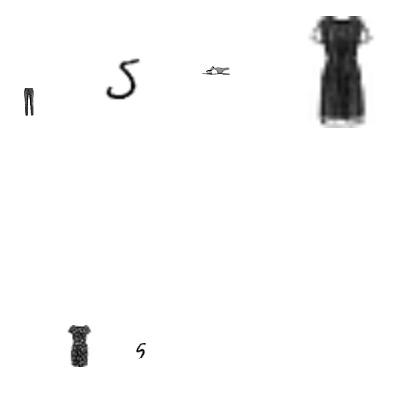5: (95, 53, 151, 109), (130, 339, 152, 361)
Dress: (285, 16, 397, 128), (59, 325, 101, 367)
Sandal: (202, 56, 230, 84)
Trouser: (15, 88, 43, 116)
